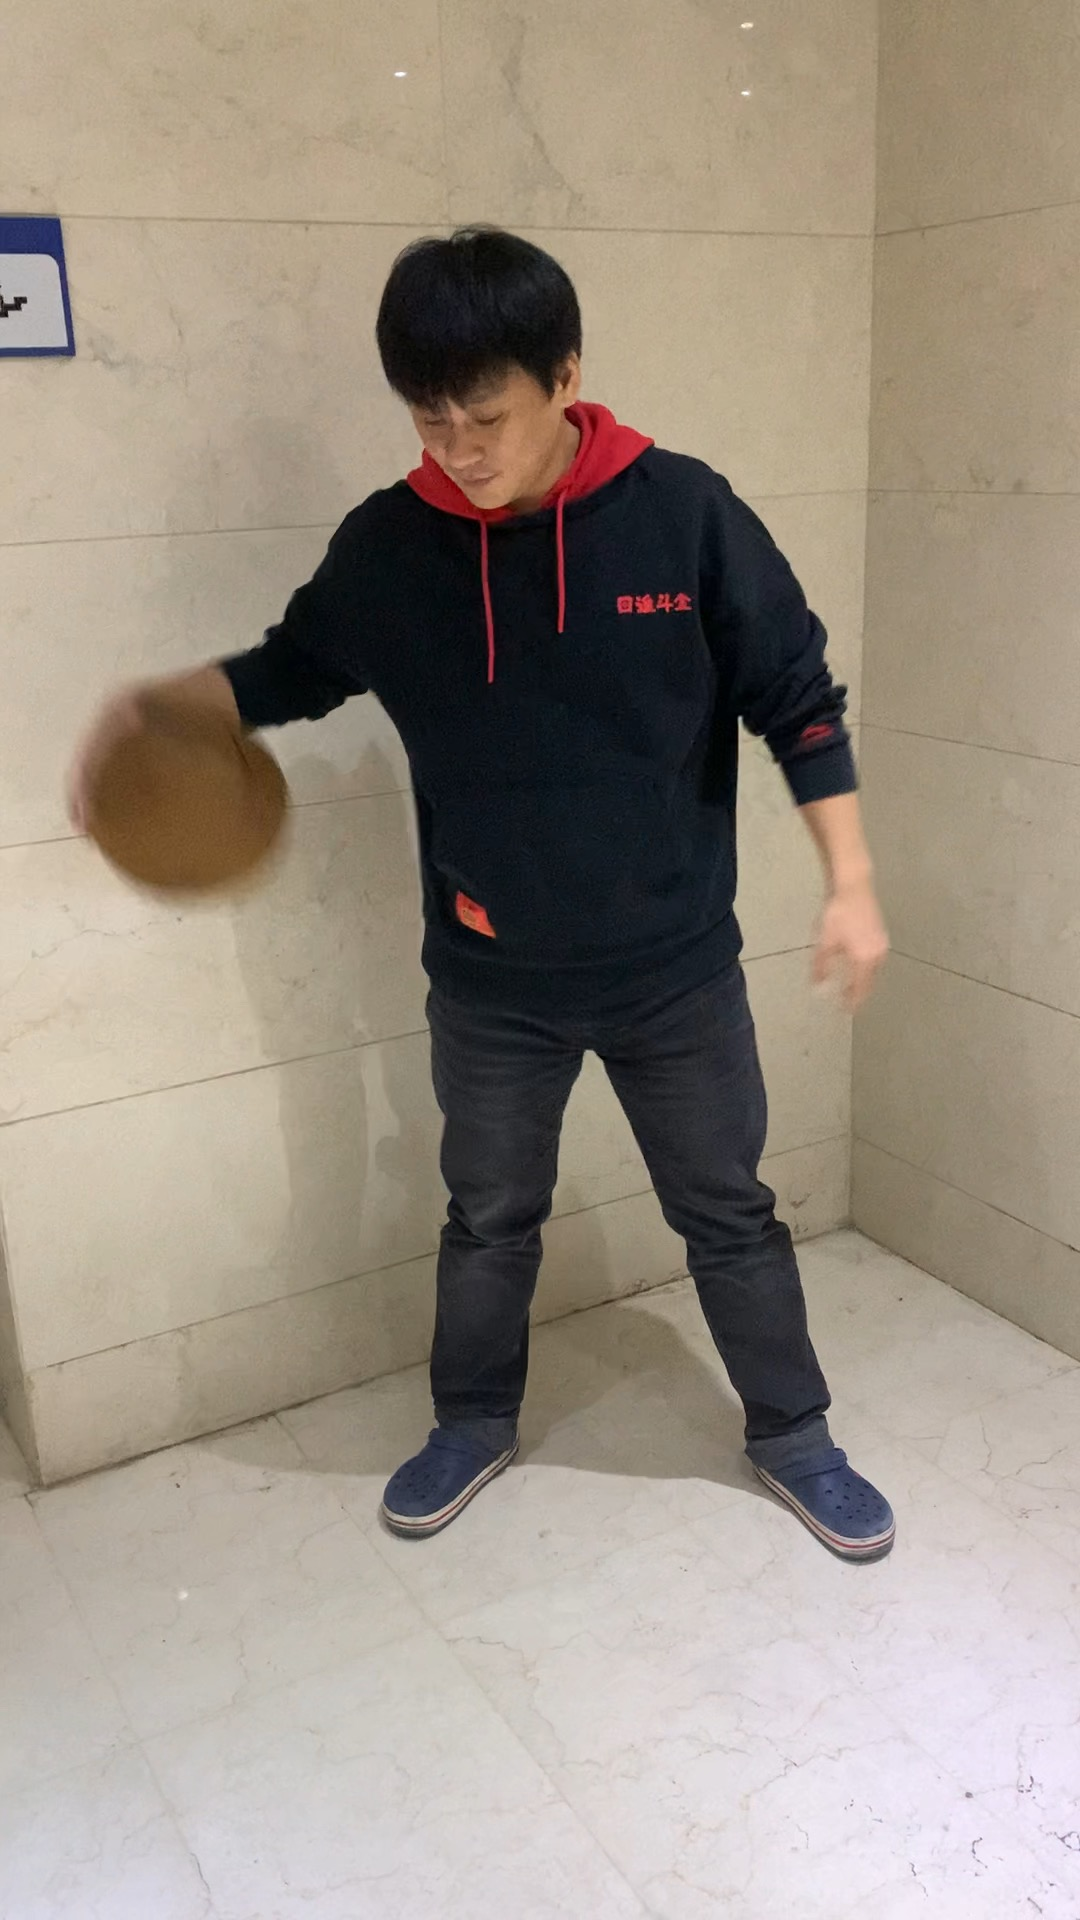ball: (76, 680, 291, 899)
